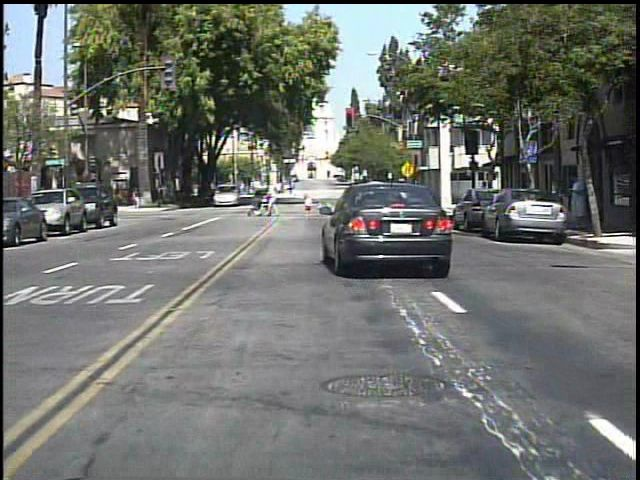person: (563, 171, 586, 235), (265, 178, 283, 219), (154, 182, 169, 210), (131, 186, 142, 212)
